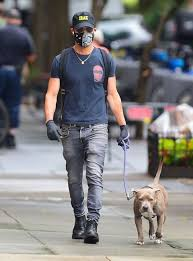mask: (74, 32, 94, 47)
